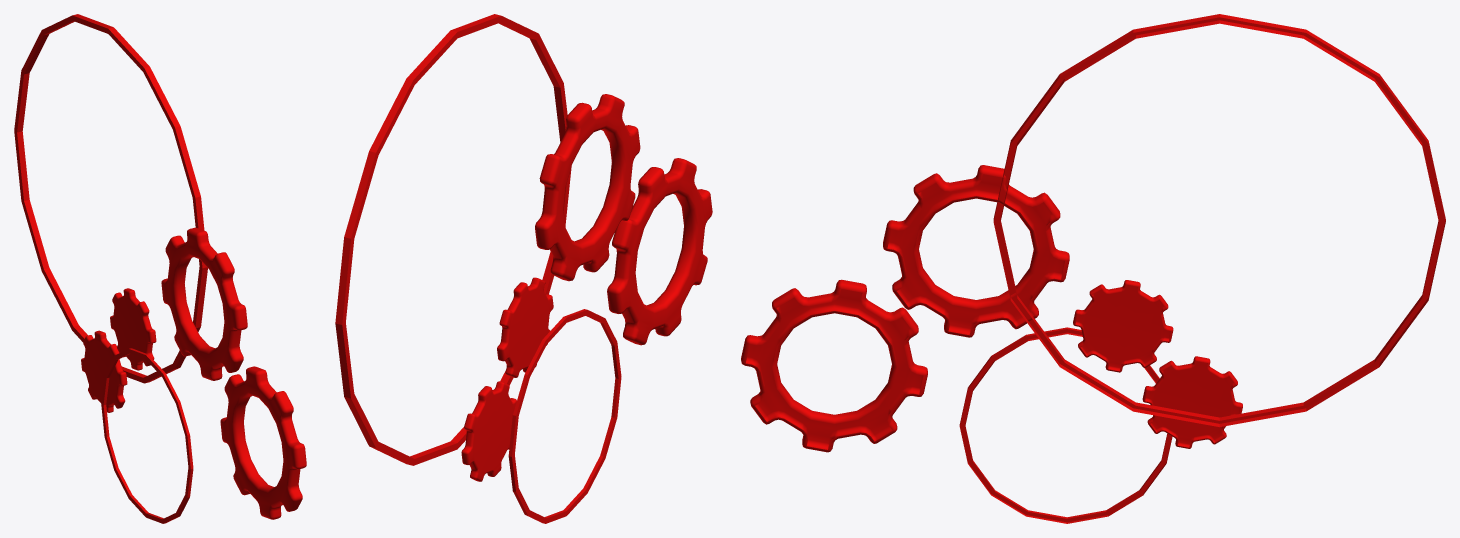
The model's file is WABD_backgrounds_windowoutside_L_lo.fbx.
3 views of the same model, side by side, from view 1: azimuth 30°, elevation 25°; view 2: azimuth 150°, elevation 25°; view 3: azimuth 270°, elevation 25° (orthographic). The views are drawn at different scales.
Visible parts, largest first — view 1: windowoutside_left_lo; view 2: windowoutside_left_lo; view 3: windowoutside_left_lo.
Boxes of the visible parts, x1,y1,x2,y2 form: windowoutside_left_lo: (14, 14, 306, 523); windowoutside_left_lo: (335, 14, 712, 523); windowoutside_left_lo: (741, 14, 1445, 523).
Bounding box in the file's own units: 91.34 × 1207 × 1472.
